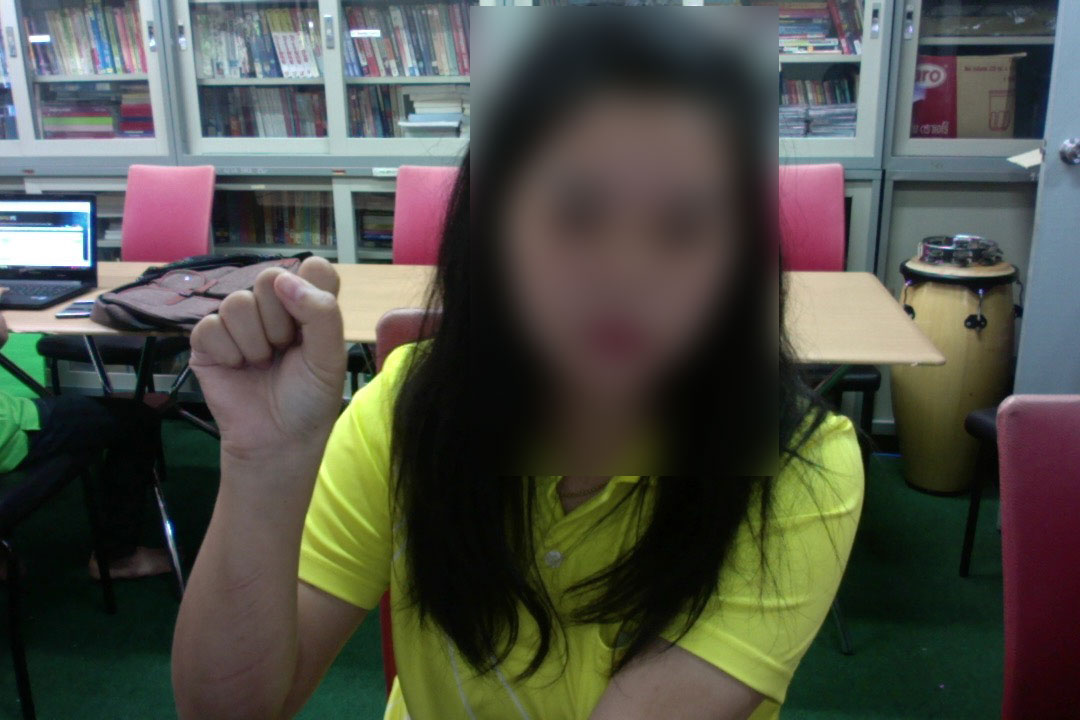sor: (181, 251, 356, 463)
